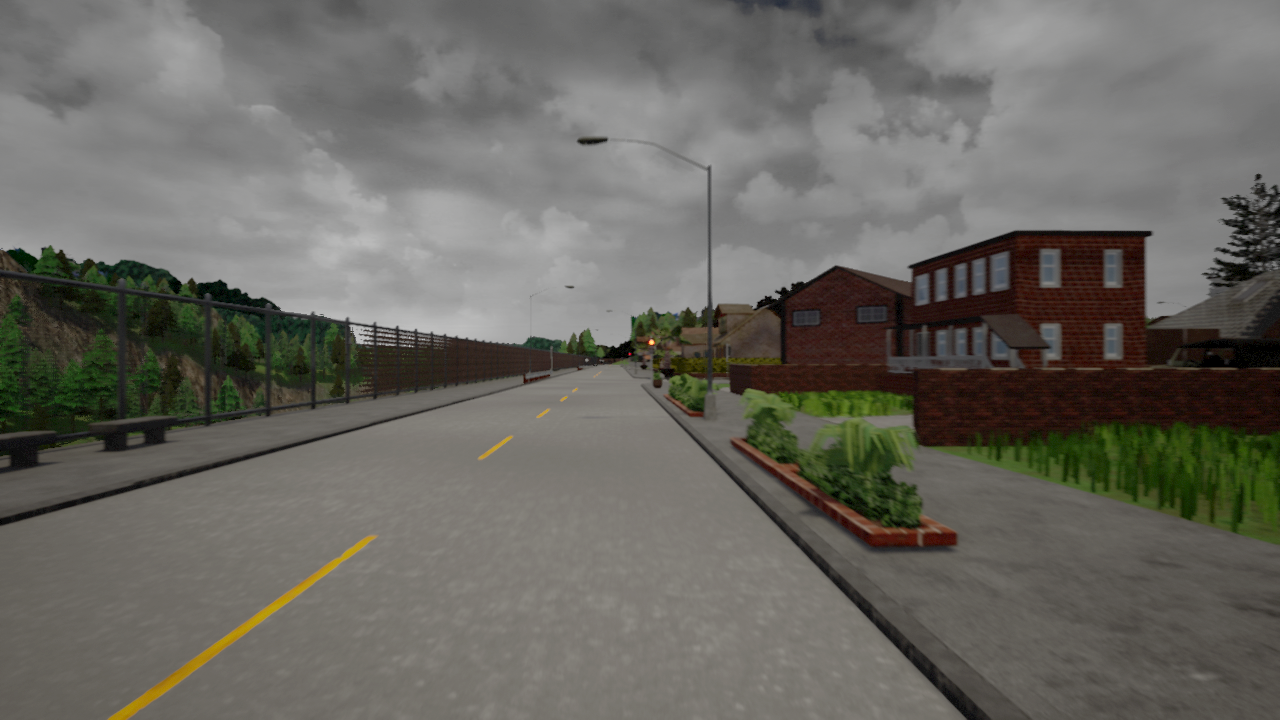red: (648, 338, 655, 354)
